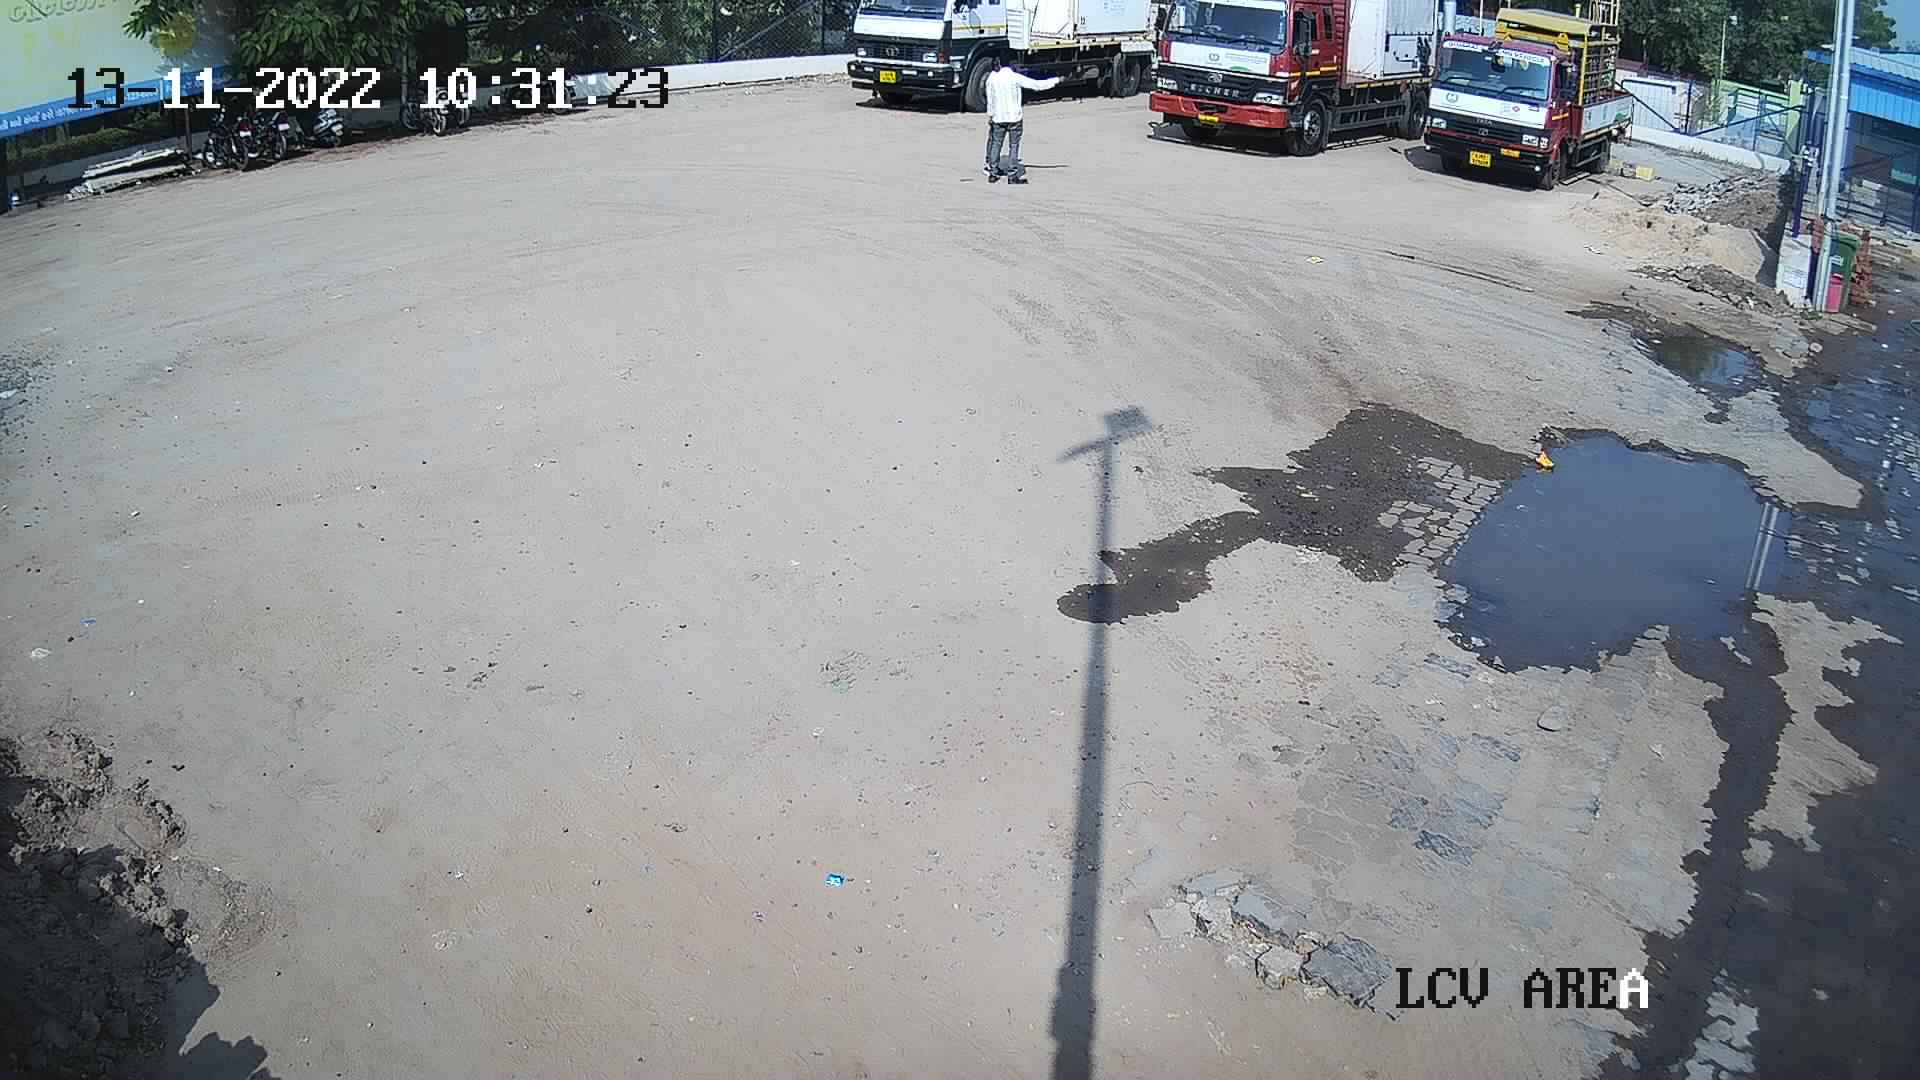HMV: (1138, 0, 1497, 158), (1410, 0, 1646, 191), (831, 0, 1183, 107)
